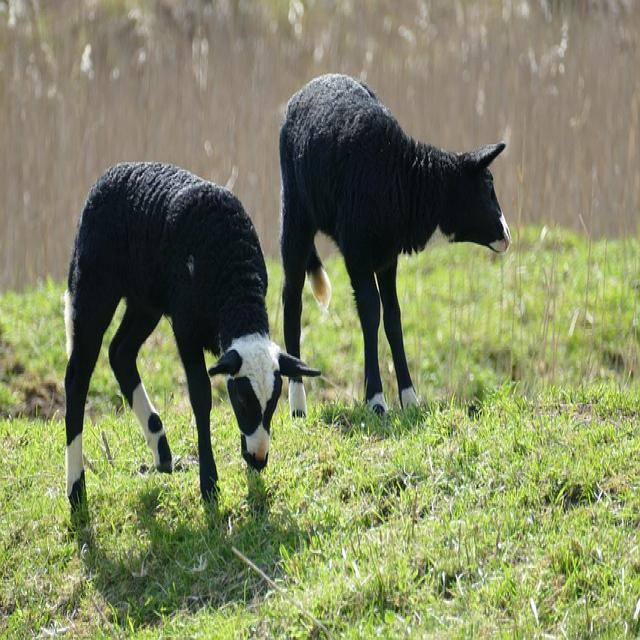sheep: (62, 159, 321, 523), (278, 71, 511, 419)
